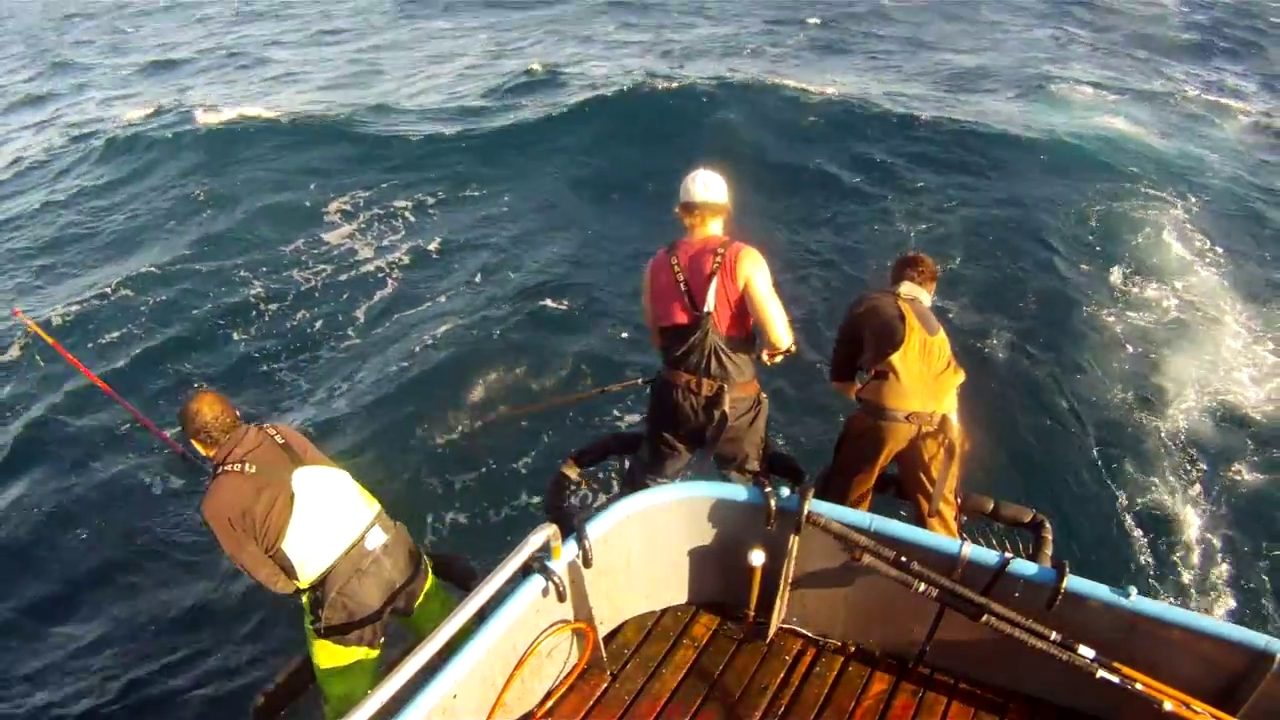person: (178, 389, 480, 720), (641, 167, 795, 482), (830, 250, 966, 542)
